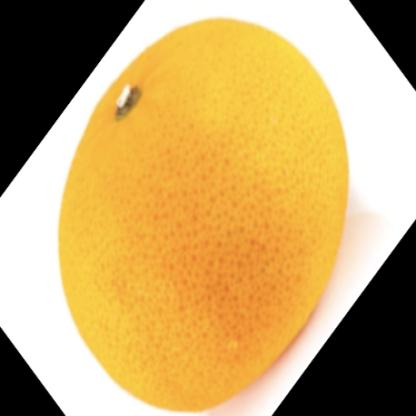fresh: (62, 21, 349, 404)
